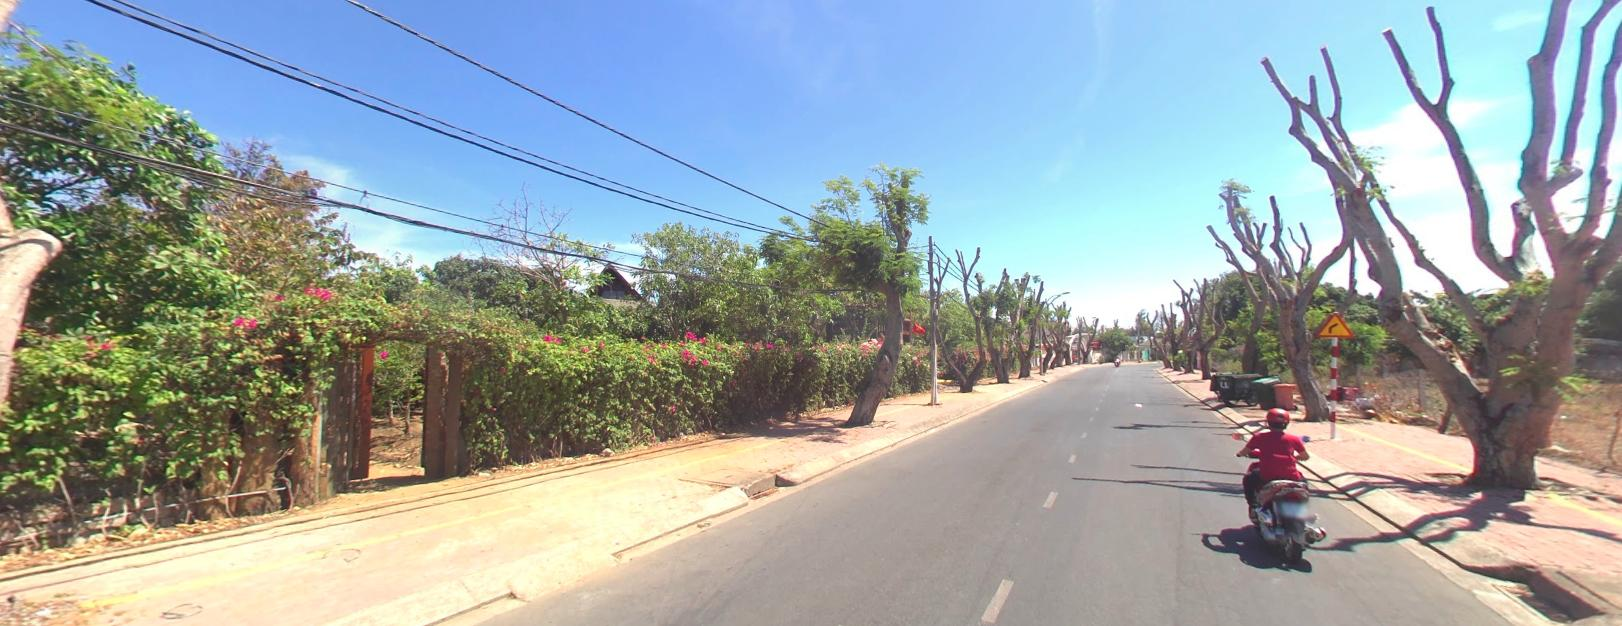Nguy hiem: (1314, 307, 1355, 337), (1316, 311, 1351, 335)
